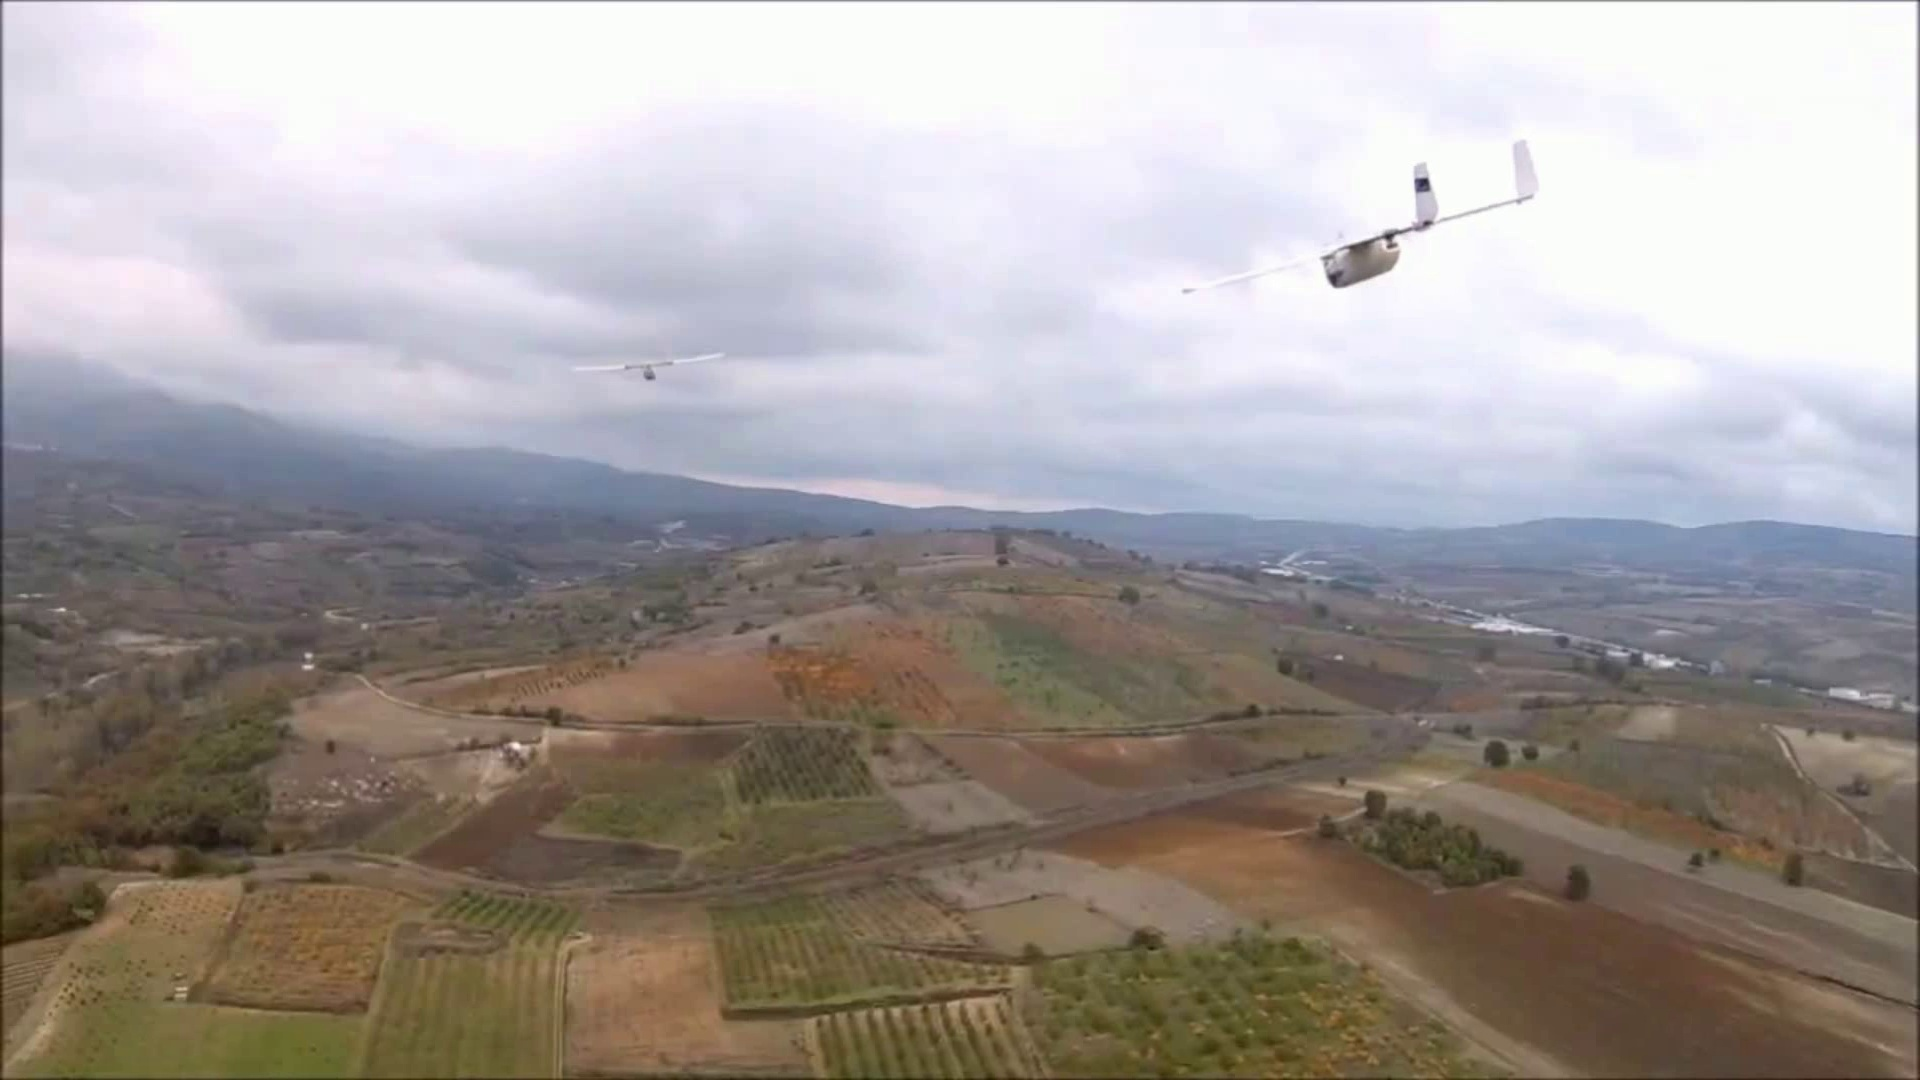airplane: (1321, 138, 1538, 287)
